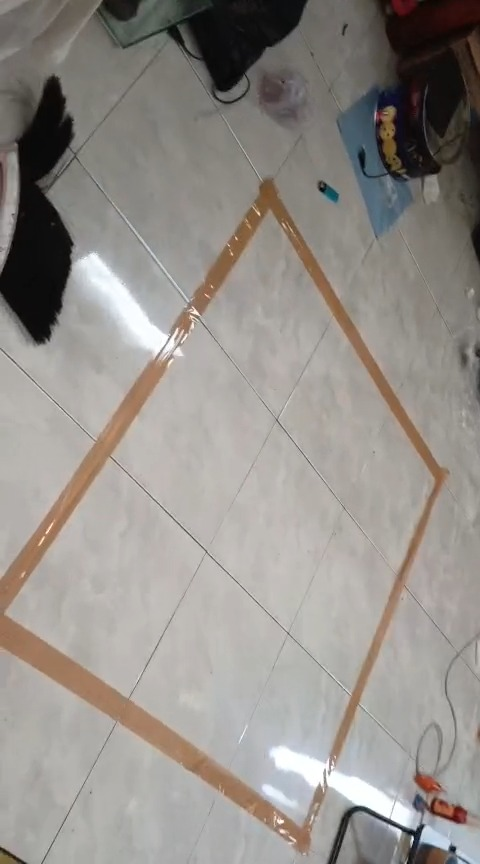floor marking: (0, 179, 446, 851)
